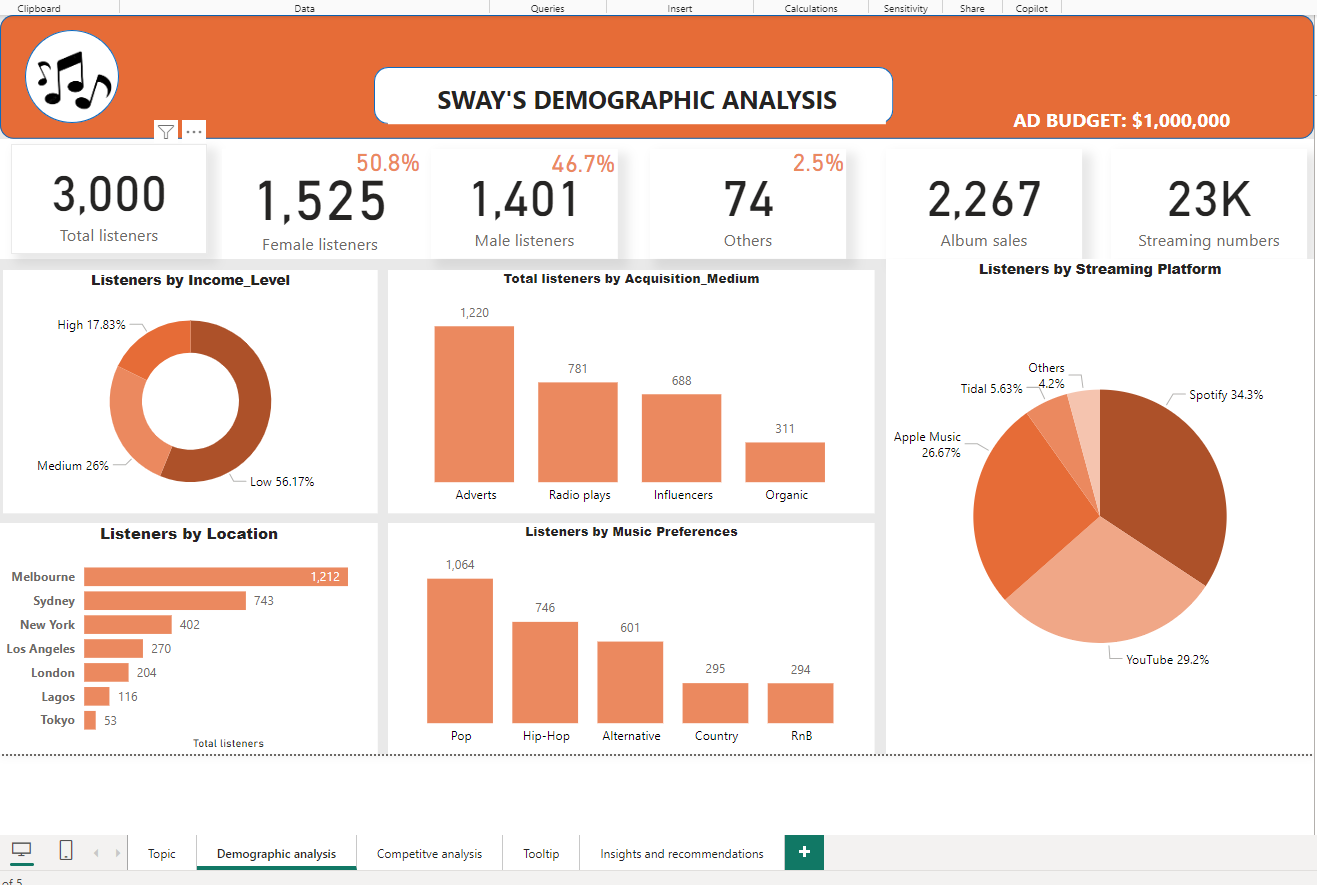

The dashboard page shown, as its layout file describes it:
{"tool":"powerbi","page":{"name":"Demographic analysis","canvas":[1280,720],"ordinal":1},"visuals":[{"type":"shape","box":[0,0,1280,120.6],"z":0},{"type":"shape","box":[364.7,50.6,505.8,55.4],"z":1000},{"type":"textbox","box":[378,60.4,485.1,45.8],"z":2000},{"type":"textbox","box":[981.9,83.8,298.1,37],"z":3000},{"type":"shape","box":[0,120.8,1280,116.9],"z":4000},{"type":"card","fields":{"Values":["Measures Table.Total listeners"]},"box":[10.7,125.7,190.9,107.2],"z":5000},{"type":"card","fields":{"Values":["Measures Table.Female listeners"]},"box":[216.3,130.5,190.9,107.2],"z":6000},{"type":"card","fields":{"Values":["Measures Table.Others"]},"box":[633.2,130.5,190.9,107.2],"z":7000},{"type":"card","fields":{"Values":["Measures Table.Album sales"]},"box":[863.1,130.5,190.9,107.2],"z":8000},{"type":"card","fields":{"Values":["Measures Table.Streaming numbers"]},"box":[1082.3,130.5,190.9,107.2],"z":9000},{"type":"card","fields":{"Values":["Measures Table.Male listeners"]},"box":[419.8,130.5,182.2,107.2],"z":10000},{"type":"card","fields":{"Values":["Measures Table.%females"]},"box":[328.3,105.2,98.4,74],"z":11000},{"type":"card","fields":{"Values":["Measures Table.%Male"]},"box":[519.2,106.2,98.4,74],"z":12000},{"type":"card","fields":{"Values":["Measures Table.%others"]},"box":[748.1,105.2,98.4,74],"z":13000},{"type":"barChart","title":"Listeners by Location","fields":{"Category":["listeners_dataset.Location"],"Y":["Measures Table.Total listeners"]},"box":[0,494.9,368.2,225],"z":14000},{"type":"columnChart","title":"Listeners by Music Preferences","fields":{"Category":["listeners_dataset.Music_Preferences"],"Y":["Measures Table.Total listeners"]},"box":[378,494.9,474.4,225],"z":15000},{"type":"pieChart","title":"Listeners by Streaming Platform","fields":{"Category":["listeners_dataset.Streaming_Platform"],"Y":["Measures Table.Total listeners"]},"box":[863.1,237.7,416.9,482.2],"z":16000},{"type":"columnChart","fields":{"Category":["listeners_dataset.Acquisition_Medium"],"Y":["Measures Table.Total listeners"]},"box":[378,248.4,474.4,236.7],"z":17000},{"type":"donutChart","title":"Listeners by Income_Level","fields":{"Category":["listeners_dataset.Income_Level"],"Y":["Measures Table.Total listeners"]},"box":[2.9,248.4,365.3,236.7],"z":18000},{"type":"shape","box":[24.4,14.6,91.6,90.6],"z":19000},{"type":"image","box":[10.7,4.9,123.7,125.7],"z":20001}]}

Visuals, with their boxes on the page's 1280x720 design canvas (x1, y1, x2, y2). These are canvas units, not pixel positions in the 1317x885 screenshot, which may show the page scaled, cropped or inside an application window:
shape: box=[0, 0, 1280, 121]
shape: box=[365, 51, 870, 106]
textbox: box=[378, 60, 863, 106]
textbox: box=[982, 84, 1280, 121]
shape: box=[0, 121, 1280, 238]
card - Measures Table.Total listeners: box=[11, 126, 202, 233]
card - Measures Table.Female listeners: box=[216, 130, 407, 238]
card - Measures Table.Others: box=[633, 130, 824, 238]
card - Measures Table.Album sales: box=[863, 130, 1054, 238]
card - Measures Table.Streaming numbers: box=[1082, 130, 1273, 238]
card - Measures Table.Male listeners: box=[420, 130, 602, 238]
card - Measures Table.%females: box=[328, 105, 427, 179]
card - Measures Table.%Male: box=[519, 106, 618, 180]
card - Measures Table.%others: box=[748, 105, 846, 179]
"Listeners by Location" barChart: box=[0, 495, 368, 720]
"Listeners by Music Preferences" columnChart: box=[378, 495, 852, 720]
"Listeners by Streaming Platform" pieChart: box=[863, 238, 1280, 720]
columnChart - listeners_dataset.Acquisition_Medium x Measures Table.Total listeners: box=[378, 248, 852, 485]
"Listeners by Income_Level" donutChart: box=[3, 248, 368, 485]
shape: box=[24, 15, 116, 105]
image: box=[11, 5, 134, 131]
